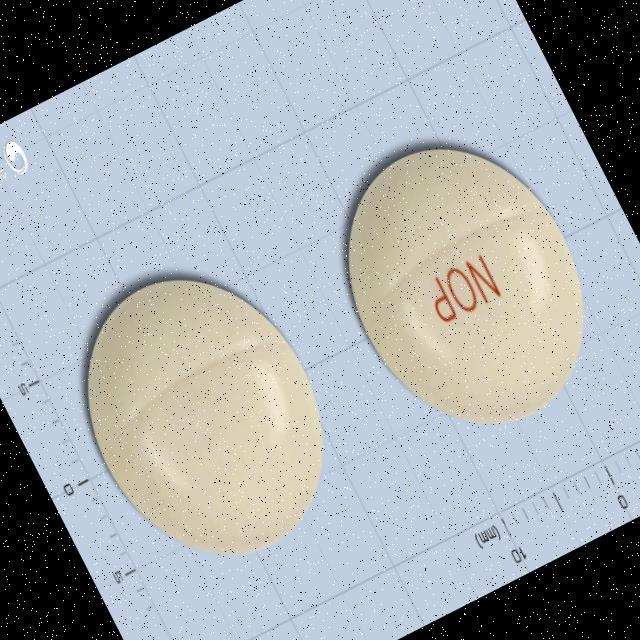Neopol Vaginal Soft Cap: (301, 105, 631, 468), (40, 237, 370, 598)
